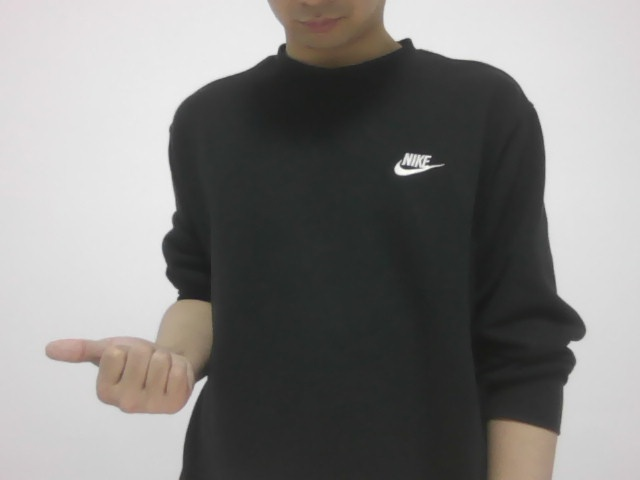have: (44, 323, 199, 418)
